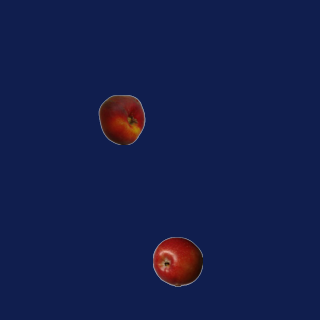Apple Braeburn: (152, 236, 202, 286)
Nectarine Flat: (96, 94, 146, 144)
